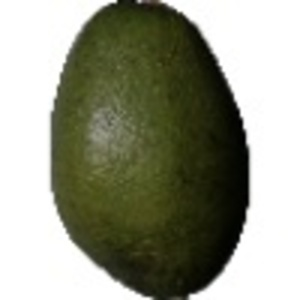abacate: (38, 1, 251, 300)
